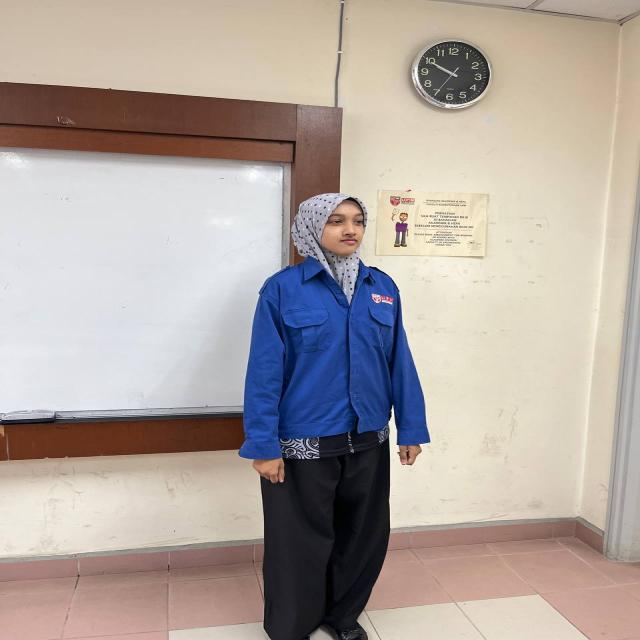person_with_labcoat: (238, 193, 429, 640)
